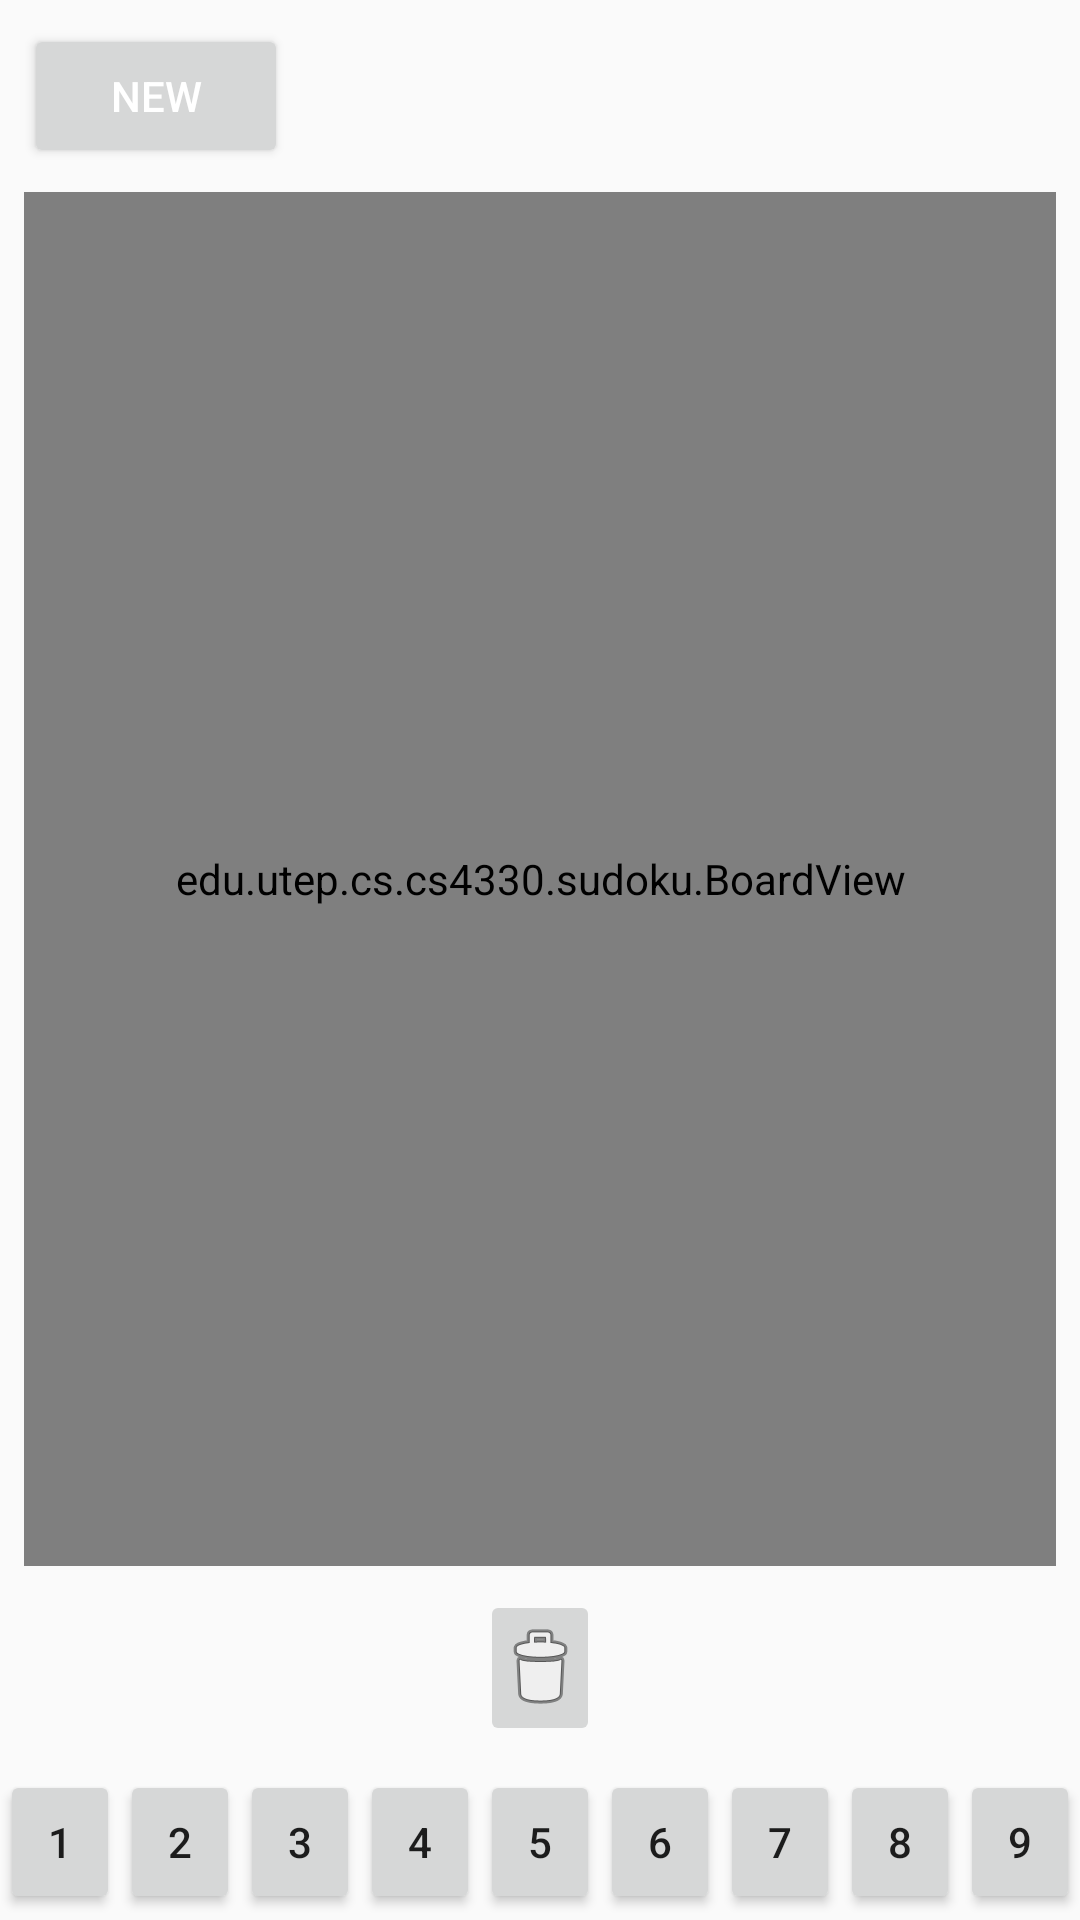

Named icons in this screenshot (1080x1920) and their bounding boxes, detection(x1, y1, x2, y2):
delete: detection(492, 1608, 588, 1728)
